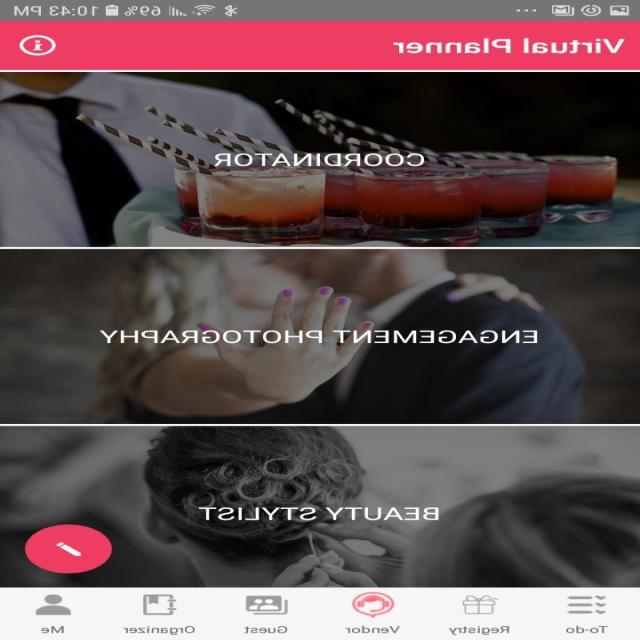Icon: (26, 524, 114, 573), (247, 595, 290, 615), (20, 35, 58, 56), (566, 595, 607, 614), (36, 594, 72, 615), (143, 594, 178, 615), (462, 595, 500, 614)
Image: (1, 248, 640, 424), (1, 72, 640, 247), (1, 425, 640, 587), (352, 591, 396, 618)
Text: (100, 329, 538, 344), (393, 38, 627, 53), (198, 506, 440, 520), (214, 153, 424, 166), (124, 625, 196, 635), (448, 625, 511, 635), (345, 625, 401, 633), (244, 625, 289, 633), (565, 625, 608, 633), (42, 625, 66, 633)
